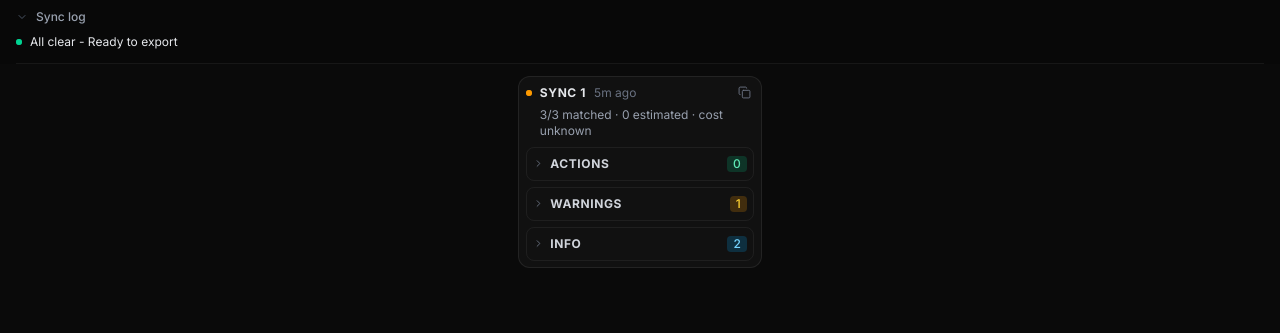
Test case: sub-groups › a one-item group is a single line: no title, no arrow
Step 1. Click the button "Warnings" → x=616, y=204, box [533, 188, 699, 220]
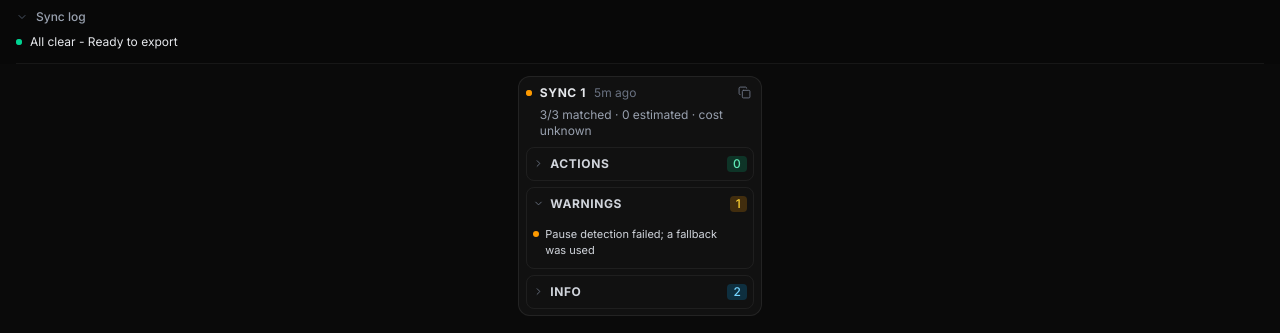
Now the button with test id "sync-item" reads "Pause detection failed; a fallback was used", box [545, 226, 725, 258]
